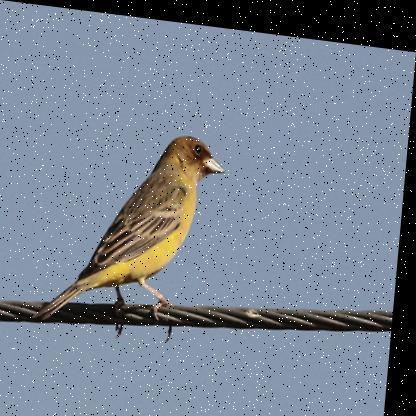Burung: (39, 117, 229, 338)
